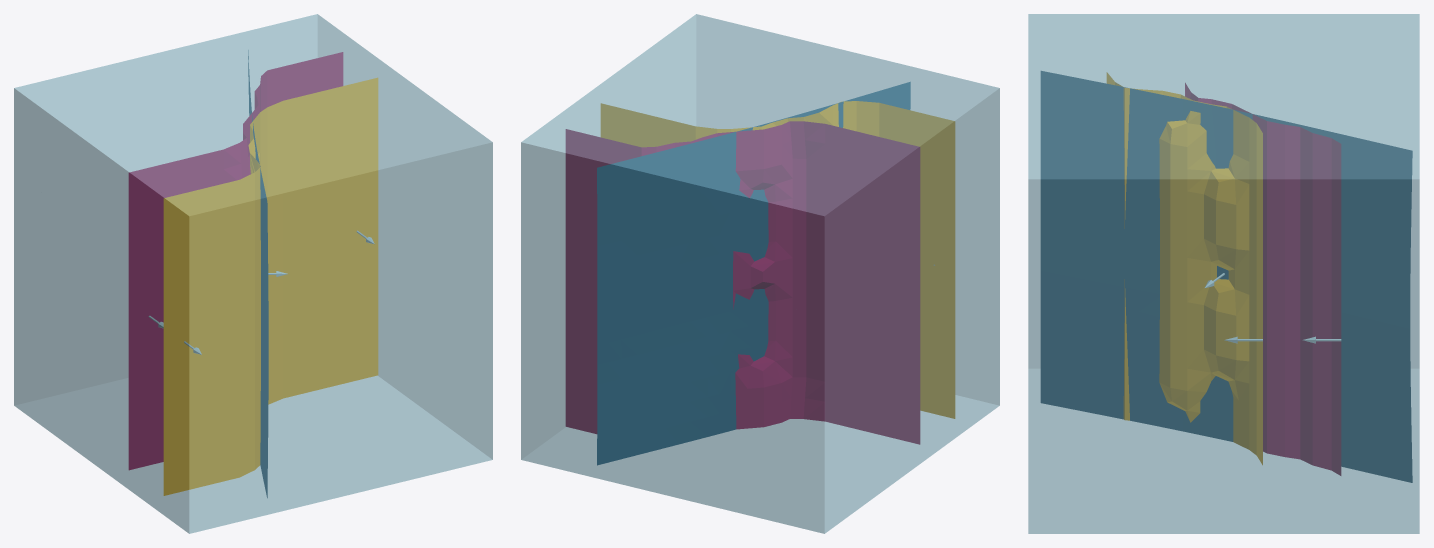
File: gempy_test.obj
3 renders of one model, left to right at view 1: azimuth 30°, elevation 25°; view 2: azimuth 150°, elevation 25°; view 3: azimuth 270°, elevation 25°, orthographic. The views are drawn at different scales.
Parts seen in each view (by area): view 1: grp1304, grp413, grp771, grp1; view 2: grp1304, grp771, grp1, grp413; view 3: grp1304, grp1, grp413, grp771.
Part boxes in pixels (box(x1,y1,x2,y2)): grp1304: box(14, 14, 492, 533); grp413: box(163, 77, 378, 495); grp771: box(128, 52, 343, 470); grp1: box(248, 50, 268, 497); grp1304: box(521, 14, 999, 533); grp771: box(565, 121, 920, 444); grp1: box(597, 82, 910, 465); grp413: box(600, 101, 955, 418); grp1304: box(1028, 14, 1419, 533); grp1: box(1040, 71, 1412, 482); grp413: box(1106, 72, 1262, 464); grp771: box(1185, 83, 1341, 475).
Bounding box in the file's own units: 1000 × 1000 × 1000.
